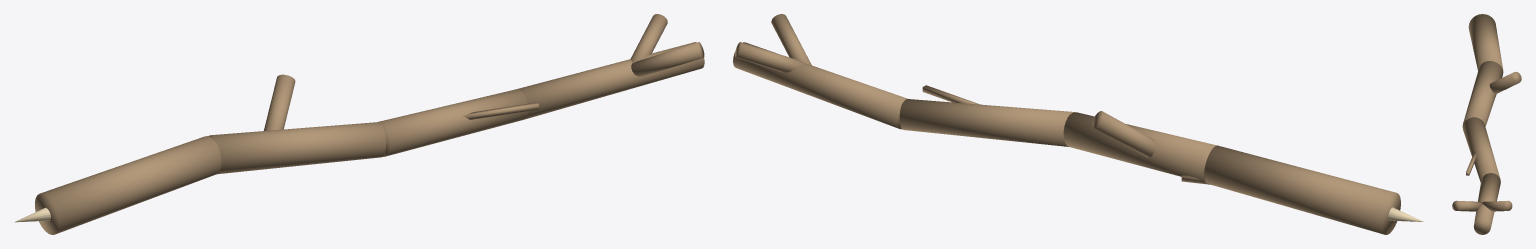
The model's file is stick_2.glb.
The picture shows the model from 3 angles, left to right: view 1: azimuth 30°, elevation 25°; view 2: azimuth 150°, elevation 25°; view 3: azimuth 270°, elevation 25°; orthographic projection. The views are drawn at different scales.
Visible parts, largest first — view 1: Main_Shaft, Fork_B, Side_Branch, Fork_A, Bark_Ridge_2; view 2: Main_Shaft, Side_Branch, Fork_A, Fork_B, Bark_Ridge_2; view 3: Main_Shaft, Side_Branch, Fork_B, Fork_A, Bark_Ridge_2.
Part boxes in pixels (left/top/right/bottom): Main_Shaft: left=35, top=42, right=704, bottom=234; Fork_B: left=631, top=42, right=704, bottom=76; Side_Branch: left=264, top=74, right=295, bottom=130; Fork_A: left=630, top=14, right=667, bottom=63; Bark_Ridge_2: left=463, top=102, right=538, bottom=119; Main_Shaft: left=733, top=42, right=1400, bottom=234; Side_Branch: left=1092, top=111, right=1155, bottom=157; Fork_A: left=734, top=42, right=806, bottom=72; Fork_B: left=771, top=14, right=811, bottom=65; Bark_Ridge_2: left=922, top=85, right=980, bottom=104; Main_Shaft: left=1462, top=14, right=1503, bottom=234; Side_Branch: left=1489, top=72, right=1521, bottom=94; Fork_B: left=1452, top=200, right=1482, bottom=211; Fork_A: left=1482, top=200, right=1512, bottom=211; Bark_Ridge_2: left=1466, top=151, right=1476, bottom=175.
Bounding box in the file's own units: 0.5785 × 0.0672 × 0.0806.
